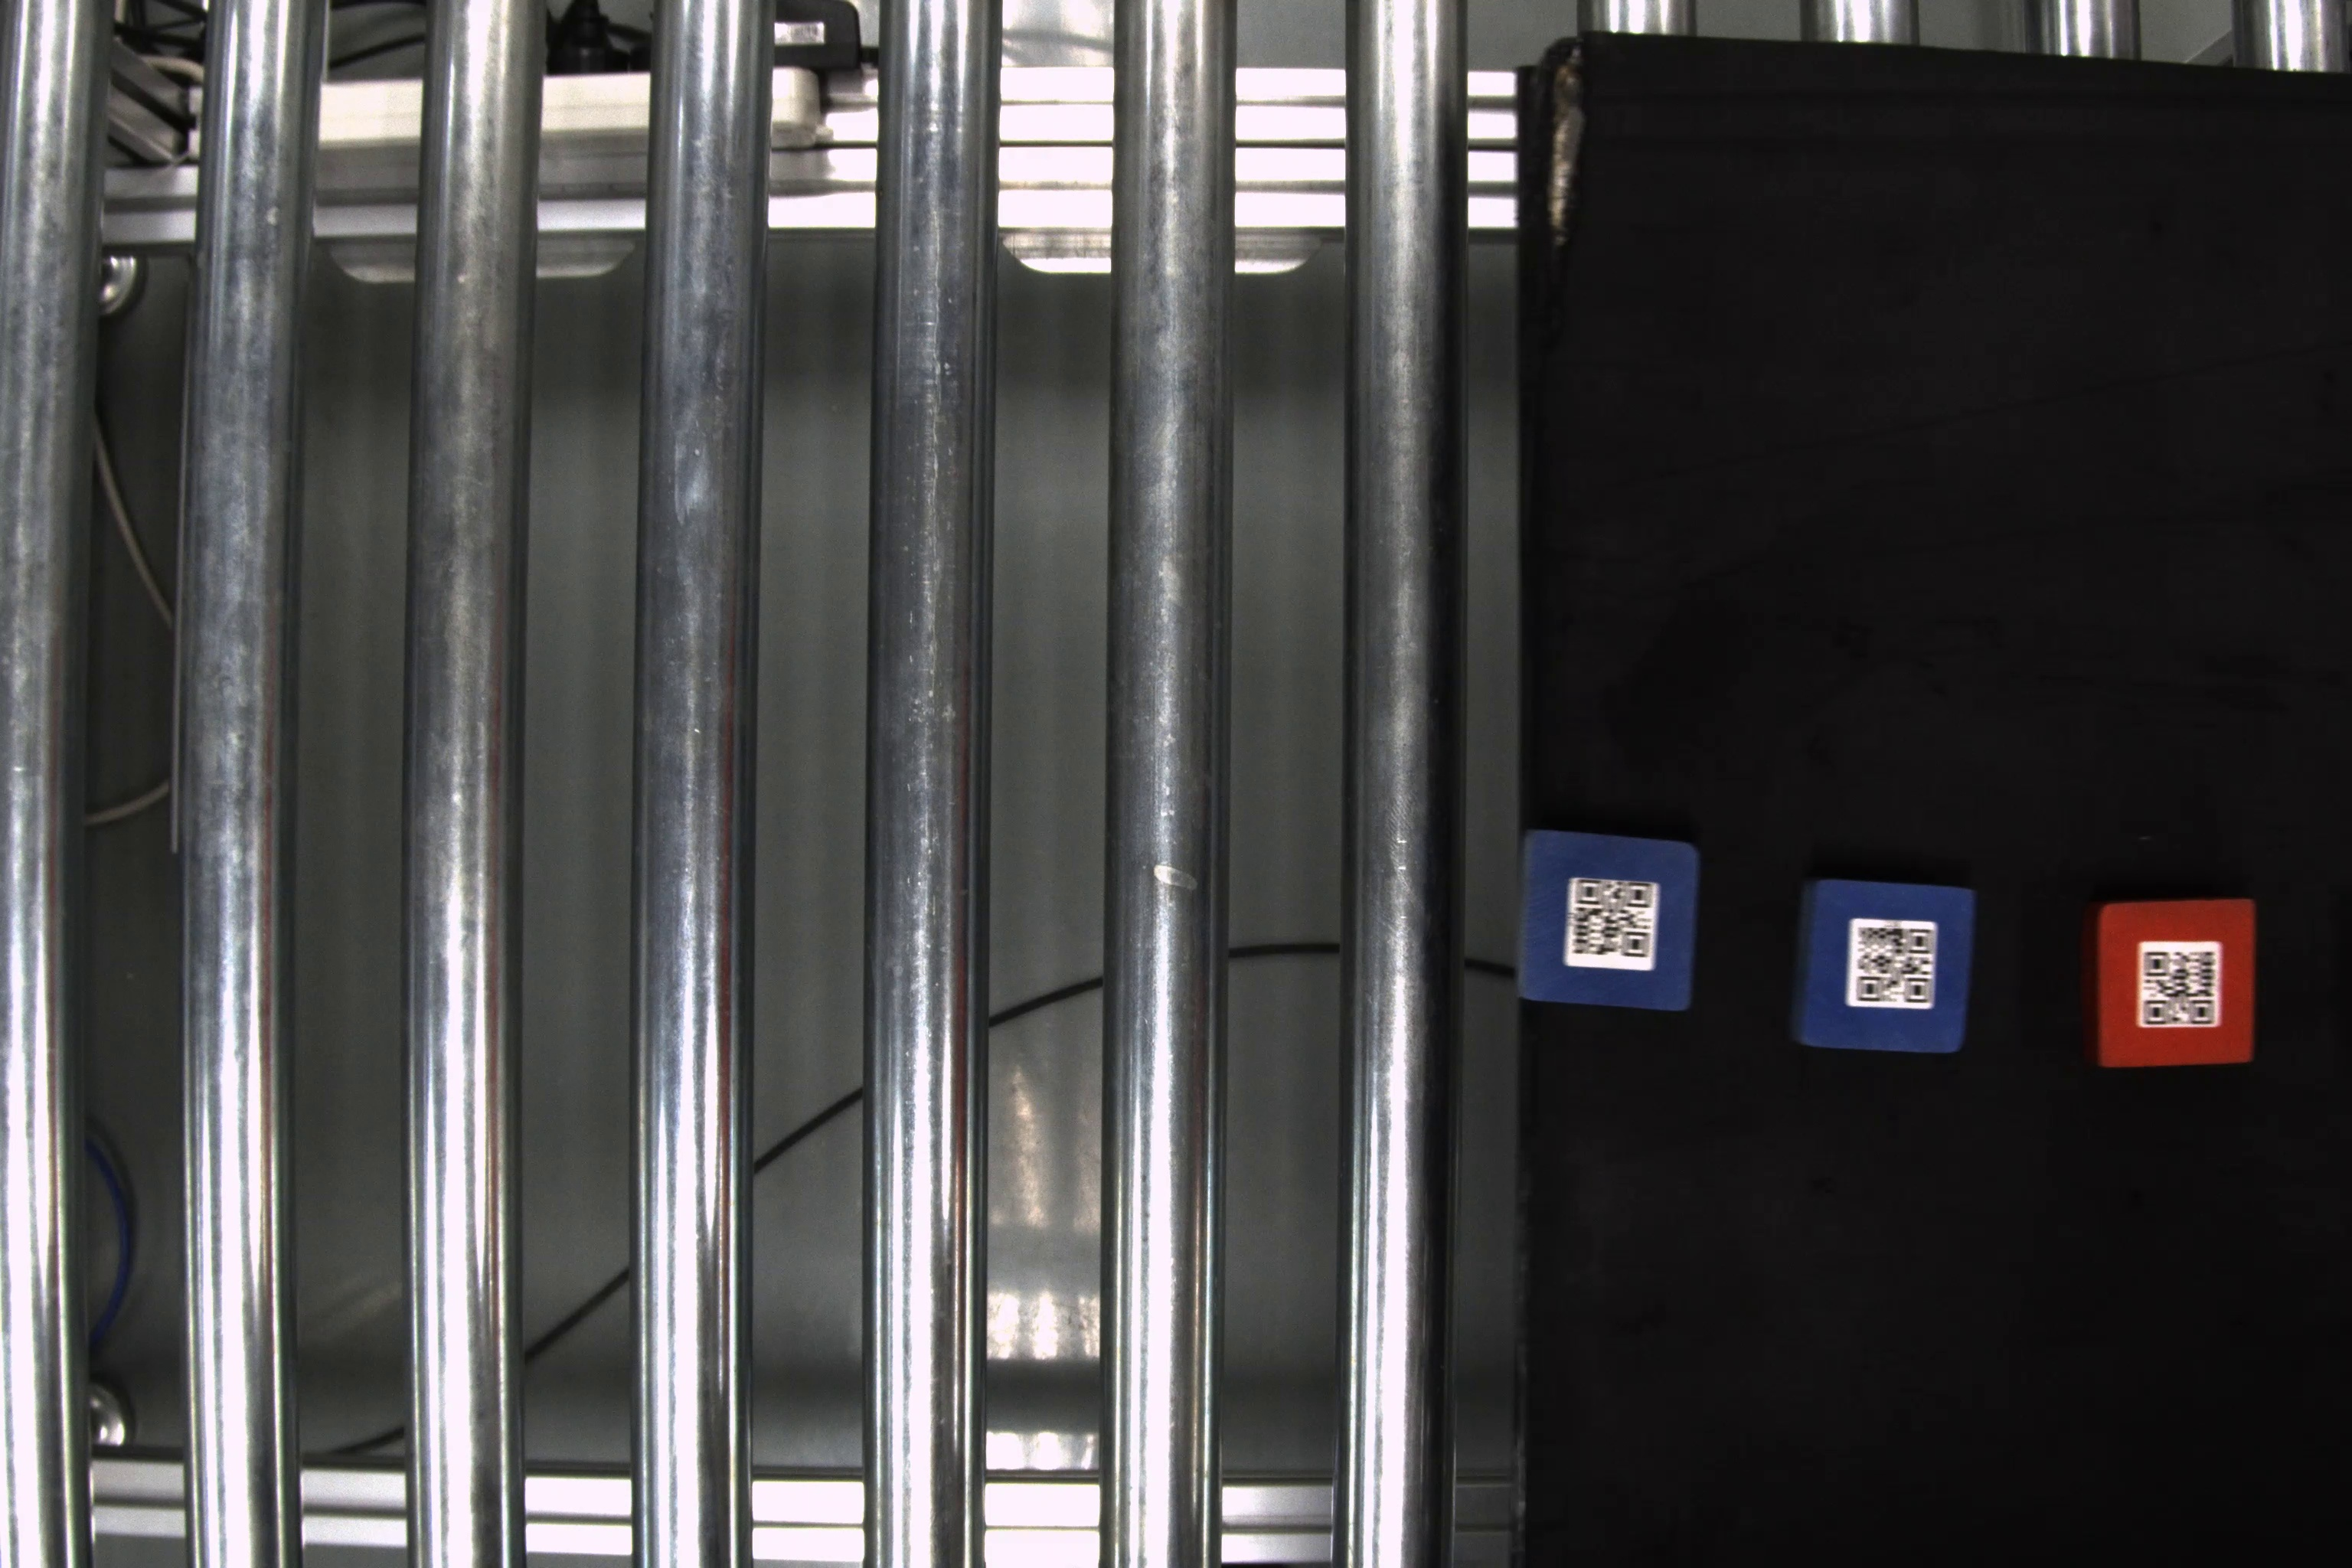wood: (1519, 826, 1703, 1018), (1794, 871, 1977, 1059), (2082, 896, 2259, 1073)
